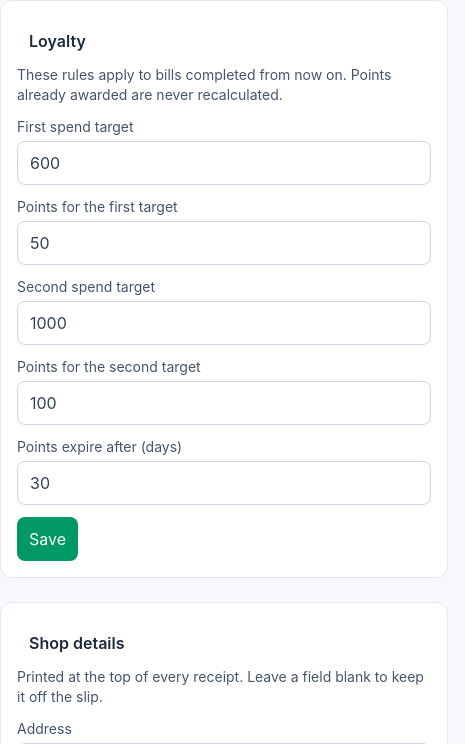
Test: the loyalty settings screen › retracts the saved confirmation when a field is edited afterward
Expected: the field with test id "settings-points_threshold_1" is shown, 17,141 -> 431,185
Click the button with test id "settings-save" at (48, 539), box 17,517 -> 78,561
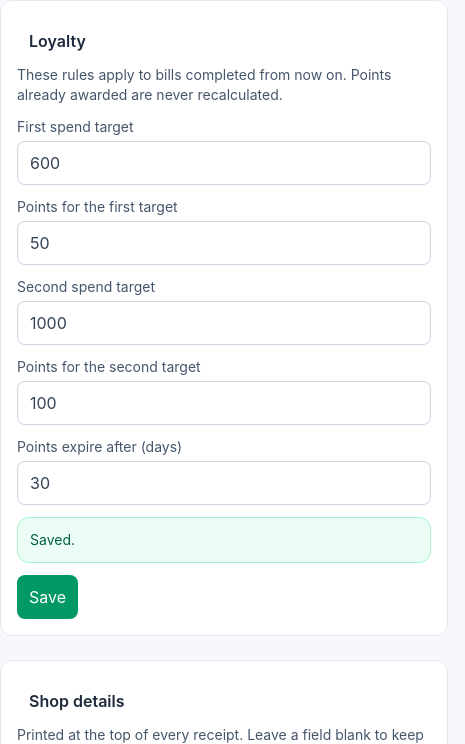
Result: the text "Saved." is shown at 30,531 -> 75,548
Replace the text in the field with test id "settings-points_threshold_1" with "800" at (224, 163), box 17,141 -> 431,185
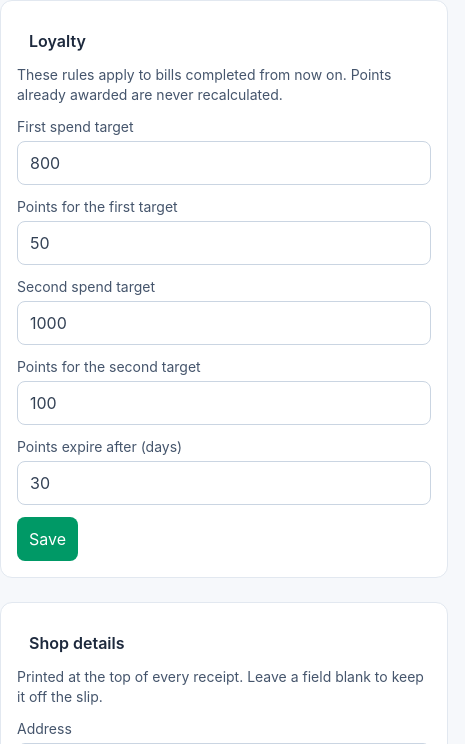
Result: the text with test id "settings-saved" is gone
